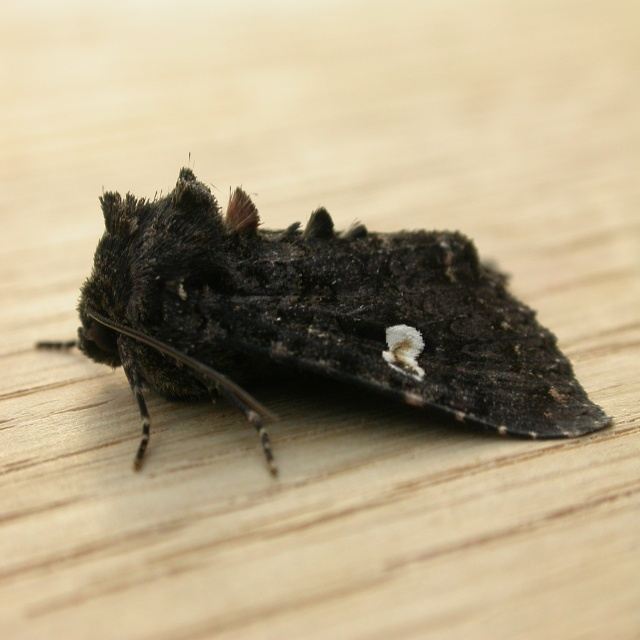Moths and butterflies: (36, 145, 618, 483)
